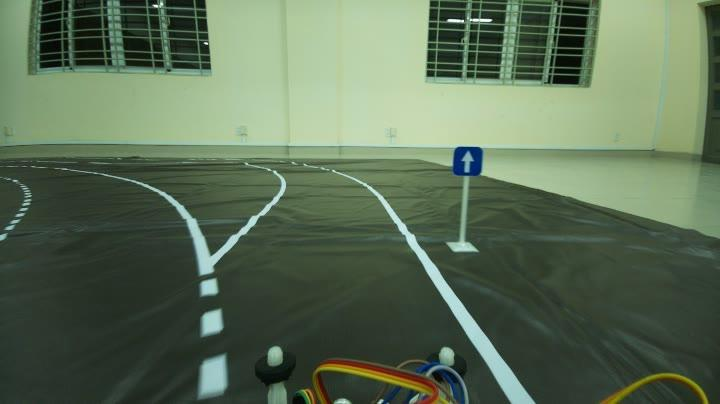onewayroad: (451, 143, 486, 181)
